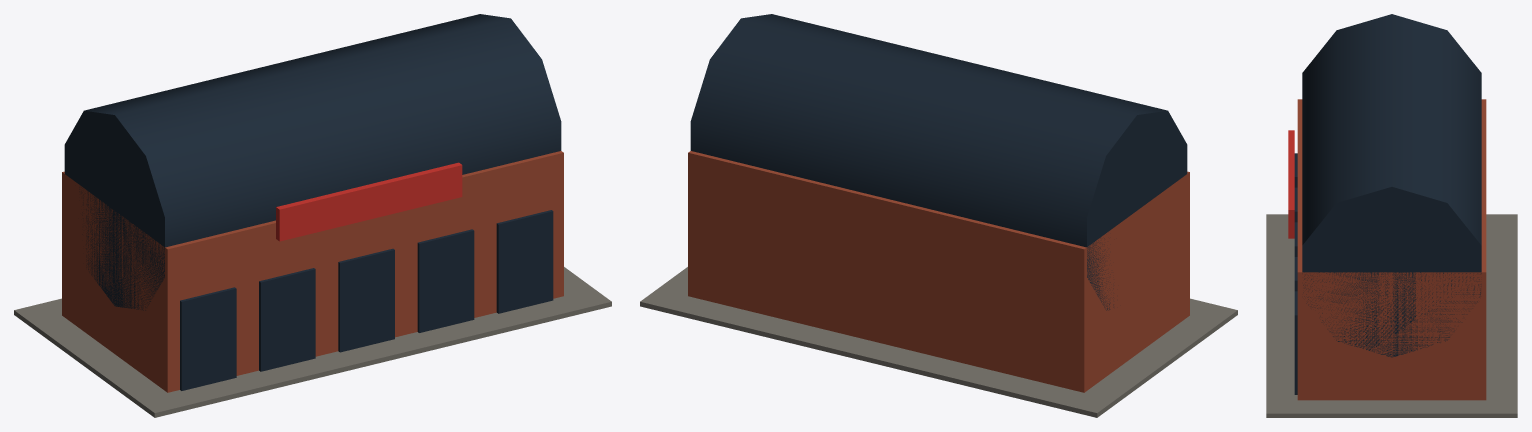
The model's file is bld_special_market_a05.glb.
3 renders of one model, left to right at view 1: azimuth 30°, elevation 25°; view 2: azimuth 150°, elevation 25°; view 3: azimuth 270°, elevation 25°, orthographic. The views are drawn at different scales.
Visible parts, largest first — view 1: body; view 2: body; view 3: body.
Part boxes in pixels (x1,y1,x2,y2): body: (14, 14, 611, 417); body: (640, 14, 1237, 417); body: (1266, 14, 1517, 417).
Size of what is drawn, in the model's own units: 15 by 7.65 by 8.
